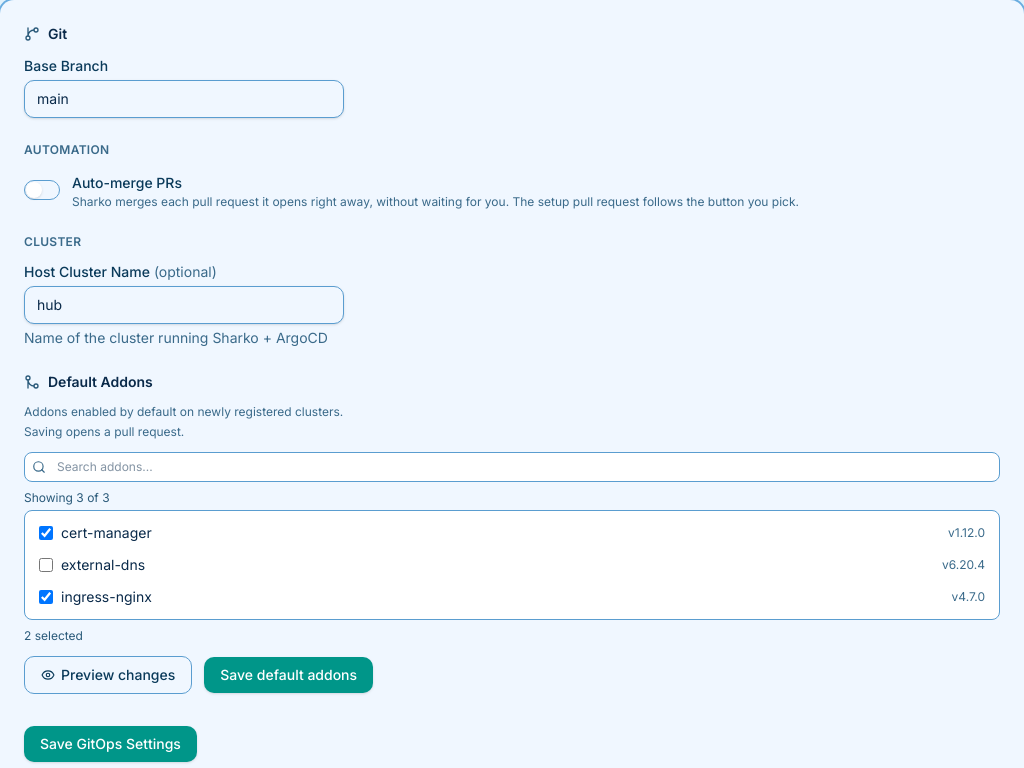
Test: GitOpsSection — Default Addons (V3-P2.2) › toggles checkboxes and updates the selection count
Expected: the text "2 selected" is shown, x1=24 y1=628 x2=83 y2=643
Click the checkbox labelled "cert-manager v1.12.0" at (46, 533), box x1=39 y1=526 x2=53 y2=540
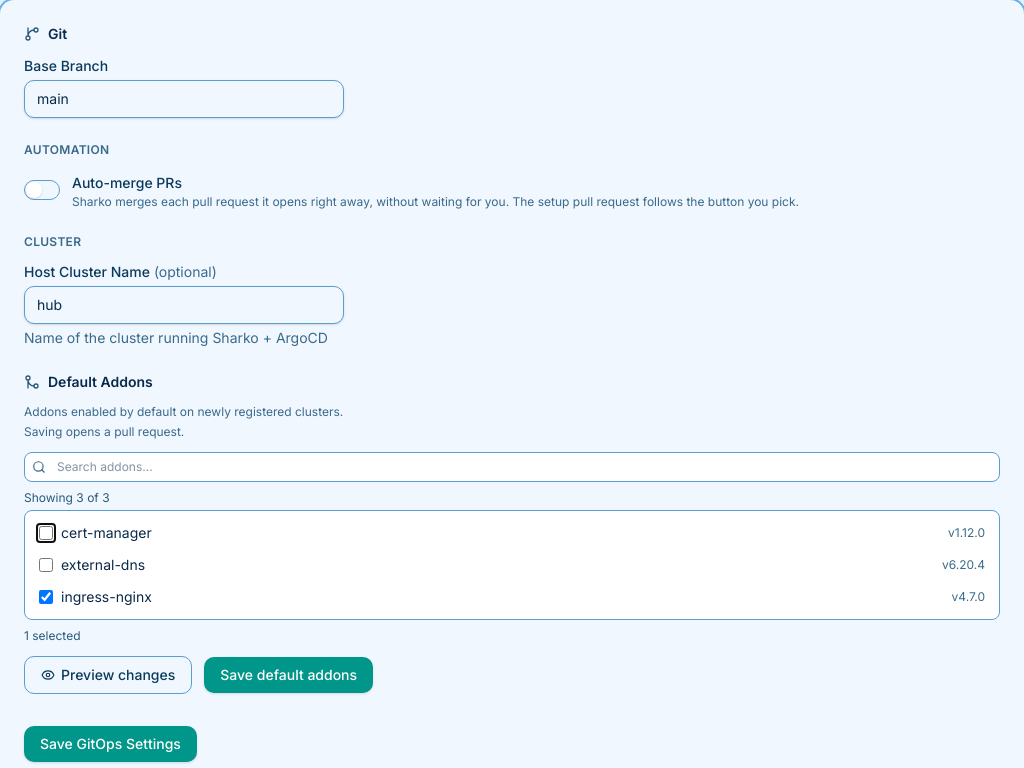
Now the text "1 selected" is shown, box x1=24 y1=628 x2=80 y2=643
Click the checkbox labelled "external-dns v6.20.4" at (46, 565), box x1=39 y1=558 x2=53 y2=572
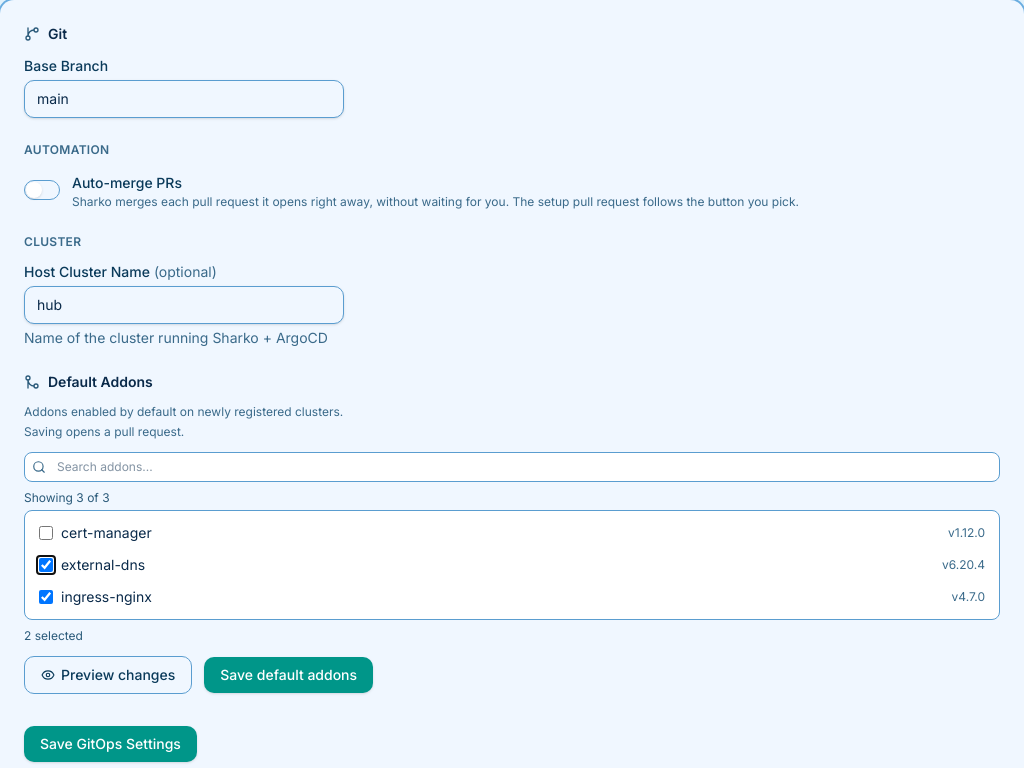
Now the text "2 selected" is shown, box x1=24 y1=628 x2=83 y2=643
